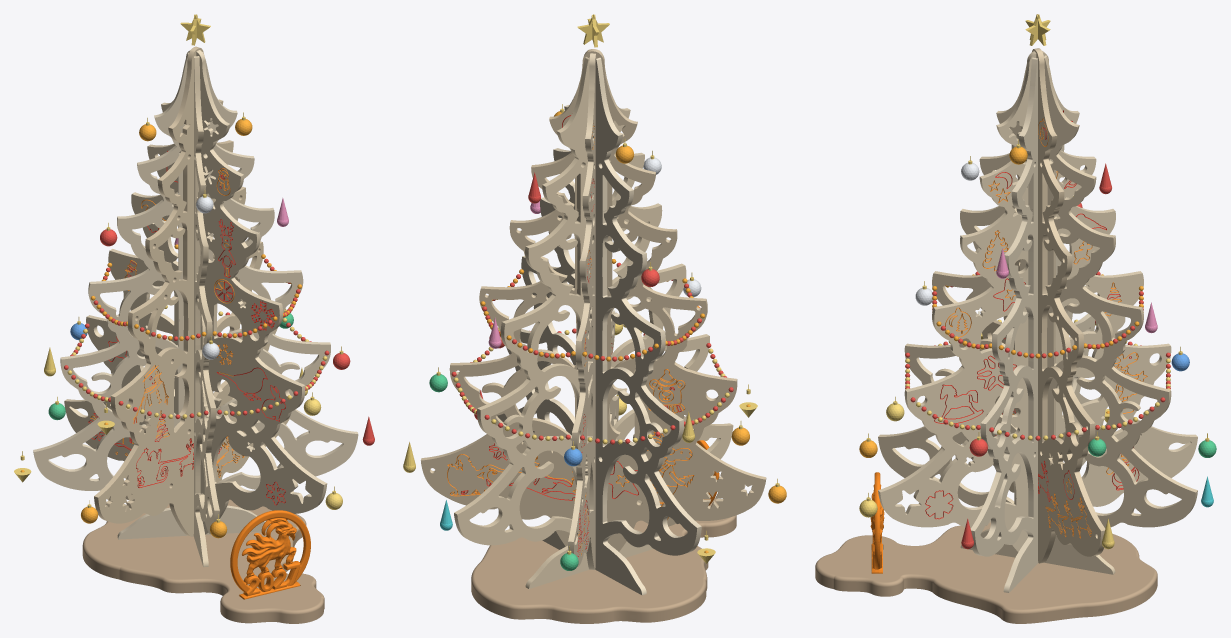
File: christmas-tree.glb
3 renders of one model, left to right at view 1: azimuth 30°, elevation 25°; view 2: azimuth 150°, elevation 25°; view 3: azimuth 270°, elevation 25°, orthographic. The views are drawn at different scales.
Parts seen in each view (by area): view 1: DETAIL_3, DETAIL_1, DETAIL_4, DETAIL_5_BASE, DETAIL_2, KOZEL_2027, deco_gold, deco_red, deco_orange, deco_silver; view 2: DETAIL_4, DETAIL_1, DETAIL_2, DETAIL_5_BASE, DETAIL_3, deco_gold, deco_red, deco_orange, deco_green; view 3: DETAIL_3, DETAIL_2, DETAIL_5_BASE, DETAIL_4, DETAIL_1, deco_gold, deco_red, deco_orange, KOZEL_2027.
Part boxes in pixels (box(x1,y1,x2,y2)): DETAIL_3: box(64, 50, 327, 534); DETAIL_1: box(33, 52, 358, 539); DETAIL_4: box(94, 46, 289, 536); DETAIL_5_BASE: box(82, 499, 324, 623); DETAIL_2: box(174, 56, 219, 567); KOZEL_2027: box(230, 510, 310, 599); deco_gold: box(14, 14, 343, 522); deco_red: box(64, 229, 374, 445); deco_orange: box(20, 119, 302, 538); deco_silver: box(196, 196, 219, 359); DETAIL_4: box(420, 49, 766, 551); DETAIL_1: box(497, 57, 701, 595); DETAIL_2: box(454, 57, 733, 588); DETAIL_5_BASE: box(471, 492, 736, 623); DETAIL_3: box(568, 53, 619, 569); deco_gold: box(403, 14, 779, 563); deco_red: box(451, 172, 733, 444); deco_orange: box(480, 111, 786, 553); deco_green: box(429, 374, 578, 570); DETAIL_3: box(878, 51, 1197, 551); DETAIL_2: box(878, 55, 1197, 574); DETAIL_5_BASE: box(815, 522, 1157, 623); DETAIL_4: box(982, 48, 1105, 563); DETAIL_1: box(970, 57, 1105, 592); deco_gold: box(859, 14, 1209, 549); deco_red: box(905, 163, 1170, 549); deco_orange: box(859, 146, 1143, 457); KOZEL_2027: box(870, 472, 884, 573).
Bounding box in the file's own units: 0.6181 × 1.07 × 0.6997.
